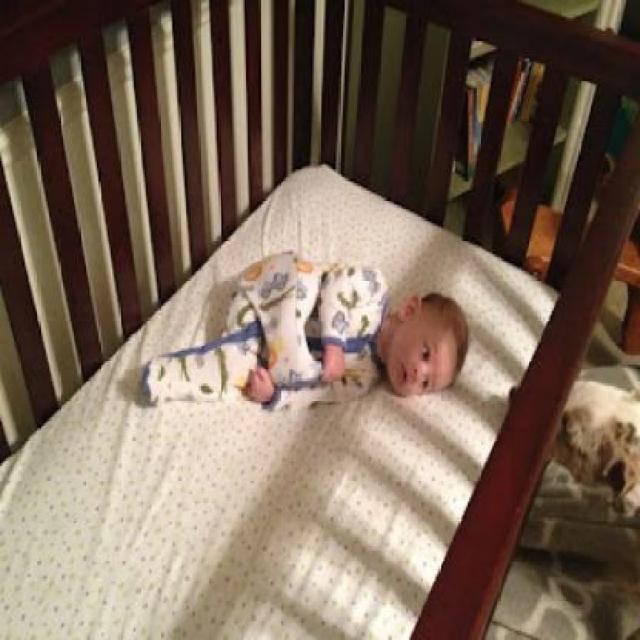child: (139, 247, 470, 412)
